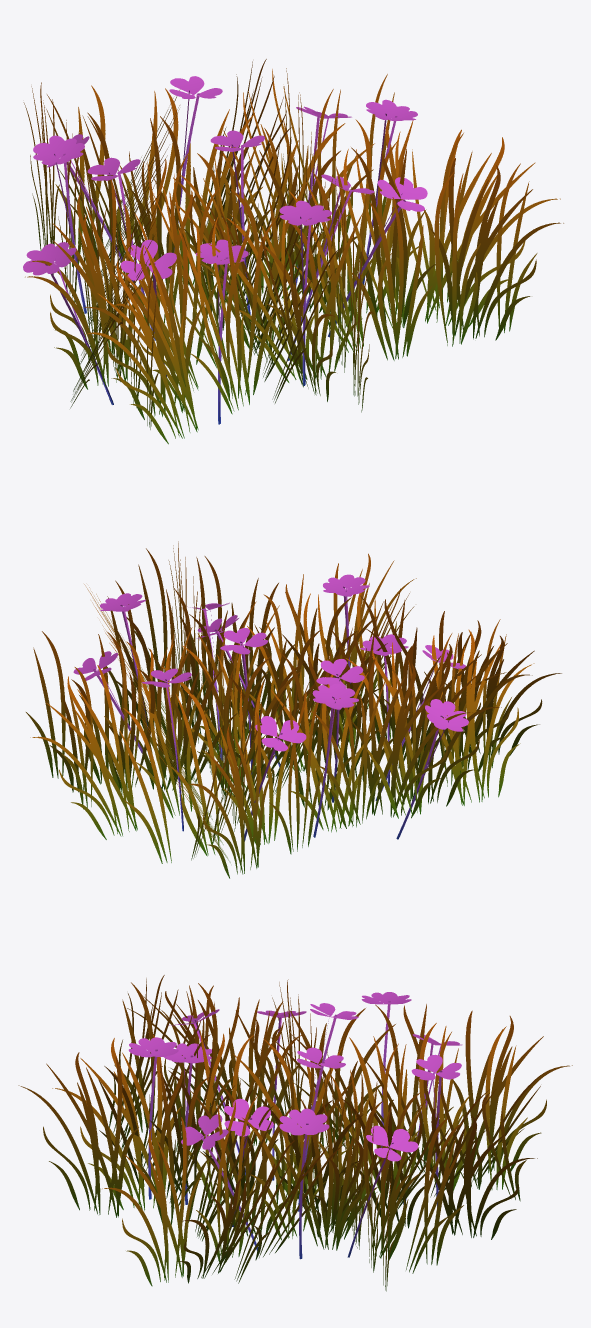
Rendered from GrassPatch_Mid_C.FBX.
The picture shows the model from 3 angles, top to bottom: view 1: azimuth 30°, elevation 25°; view 2: azimuth 150°, elevation 25°; view 3: azimuth 270°, elevation 25°; orthographic projection. The views are drawn at different scales.
Visible parts, largest first — view 1: GrassPatch_Mid_C; view 2: GrassPatch_Mid_C; view 3: GrassPatch_Mid_C.
Boxes of the visible parts, box(x1,y1,x2,y2) form: GrassPatch_Mid_C: box(23, 59, 563, 444); GrassPatch_Mid_C: box(26, 541, 561, 878); GrassPatch_Mid_C: box(18, 975, 572, 1291).
Bounding box in the file's own units: 2.16 × 0.8972 × 2.16.
